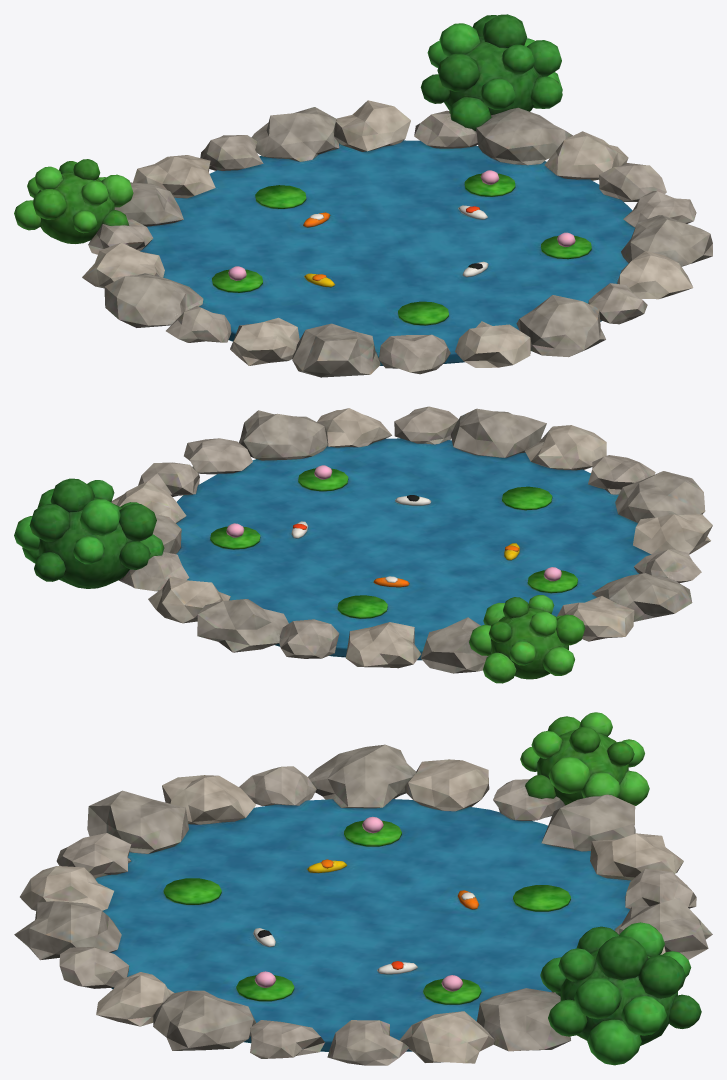
Rendered from koi_pond.glb.
The picture shows the model from 3 angles, top to bottom: view 1: azimuth 30°, elevation 25°; view 2: azimuth 150°, elevation 25°; view 3: azimuth 270°, elevation 25°; orthographic projection. The views are drawn at different scales.
Visible parts, largest first — view 1: koi_pond; view 2: koi_pond; view 3: koi_pond.
Part boxes in pixels (bbox=[...]): koi_pond: bbox=[14, 14, 712, 377]; koi_pond: bbox=[14, 406, 712, 683]; koi_pond: bbox=[14, 712, 712, 1065].
Bounding box in the file's own units: 2.01 × 0.357 × 1.93.
1 material, 1 textured.
